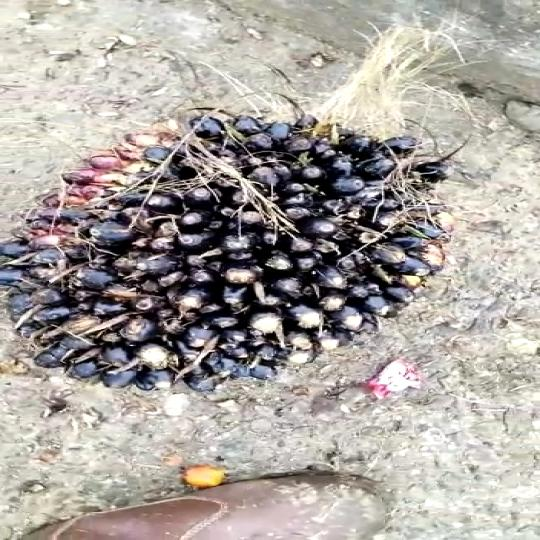mentah: (0, 97, 471, 392)
